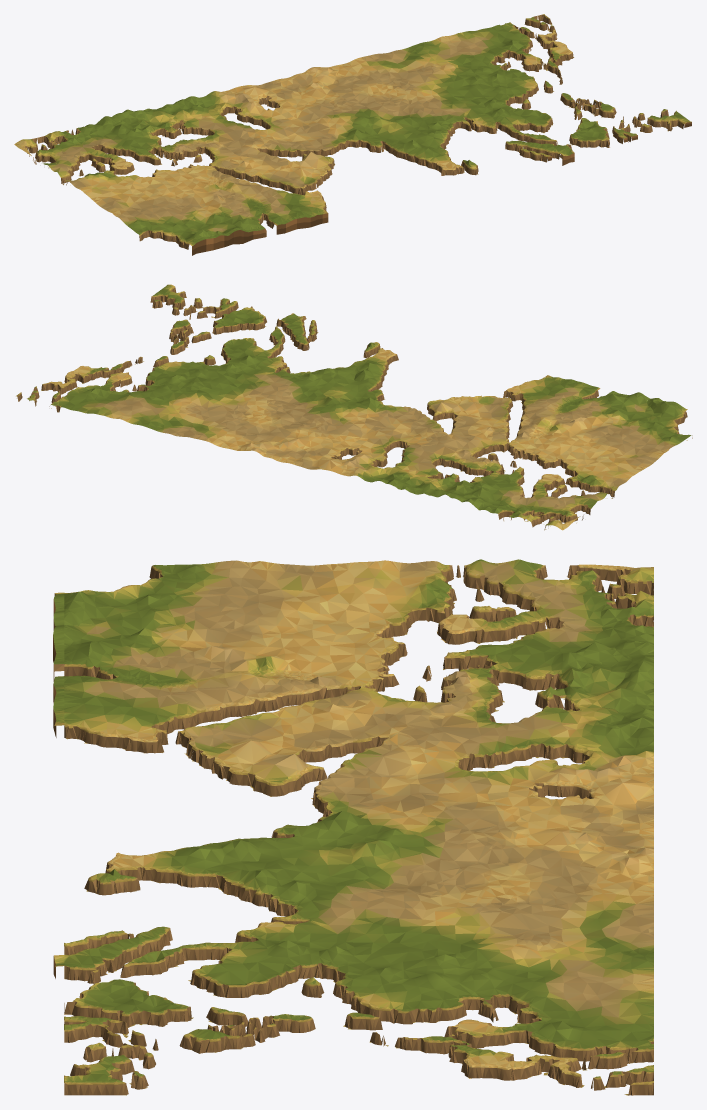
Rendered from board_terrain.glb.
The picture shows the model from 3 angles, top to bottom: view 1: azimuth 30°, elevation 25°; view 2: azimuth 150°, elevation 25°; view 3: azimuth 270°, elevation 25°; orthographic projection. The views are drawn at different scales.
Visible parts, largest first — view 1: BoardTerrain; view 2: BoardTerrain; view 3: BoardTerrain.
Boxes of the visible parts, <box> form: BoardTerrain: <box>14,14,691,255</box>; BoardTerrain: <box>16,284,692,530</box>; BoardTerrain: <box>53,559,653,1095</box>.
Size of the model in its own units: 124 by 4.11 by 60.75.
